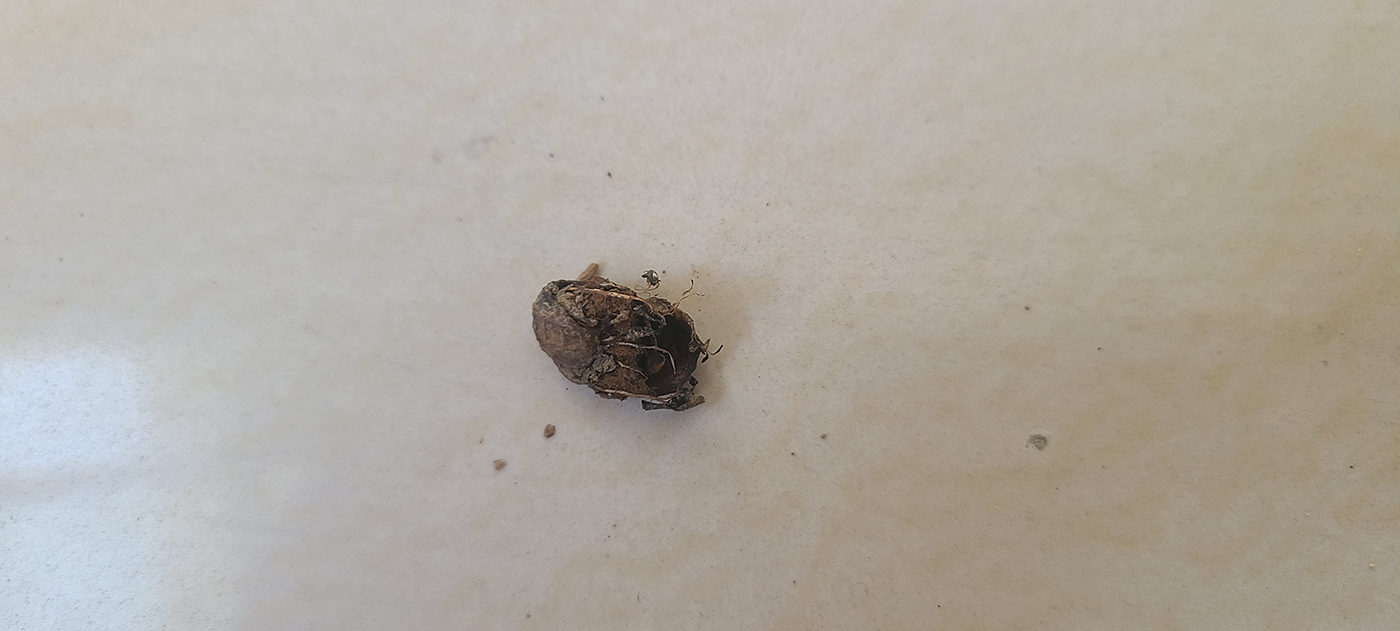l: (528, 272, 711, 415)
